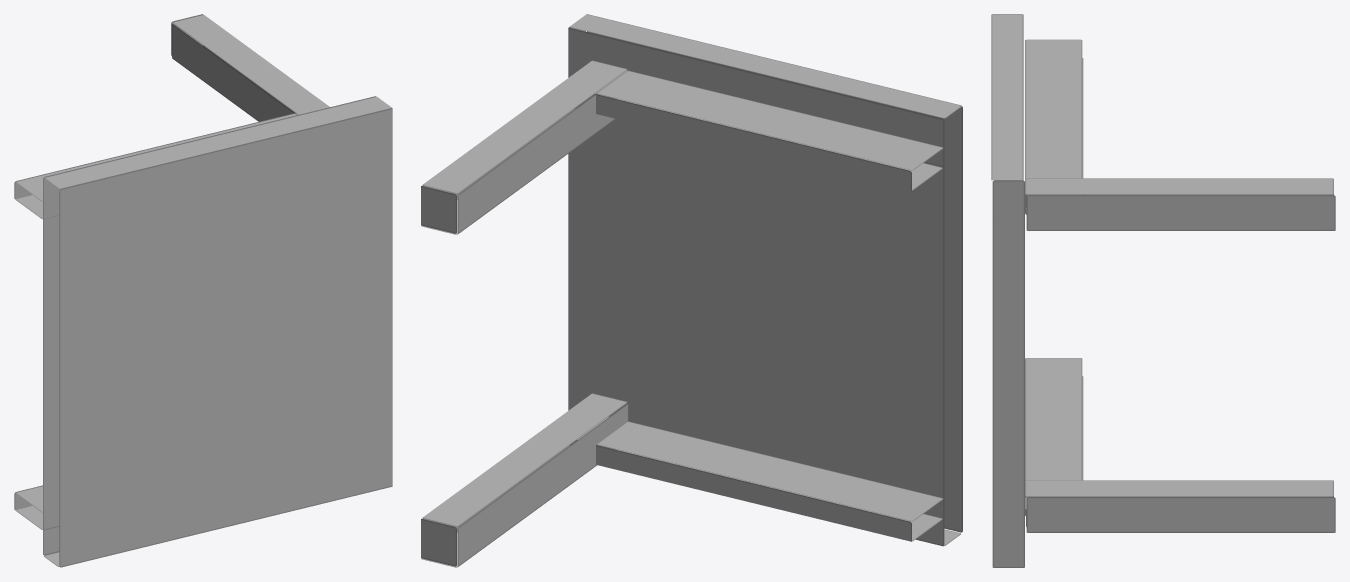
Rendered from pz_table_tables_high_02_long_white_2_0.obj.
The picture shows the model from 3 angles, left to right: view 1: azimuth 30°, elevation 25°; view 2: azimuth 150°, elevation 25°; view 3: azimuth 270°, elevation 25°; orthographic projection. The views are drawn at different scales.
Bounding box in the file's own units: 0.875 × 0.95 × 0.7655.
Materials: 1 (1 with a texture image).
